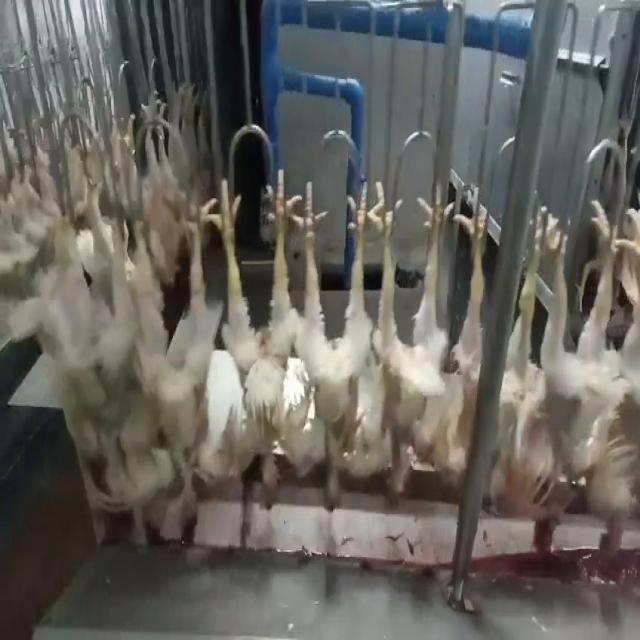chicken: (205, 169, 303, 514), (502, 204, 596, 560), (122, 168, 206, 548), (370, 175, 457, 501), (305, 173, 380, 515), (423, 184, 499, 484), (592, 189, 640, 565)
